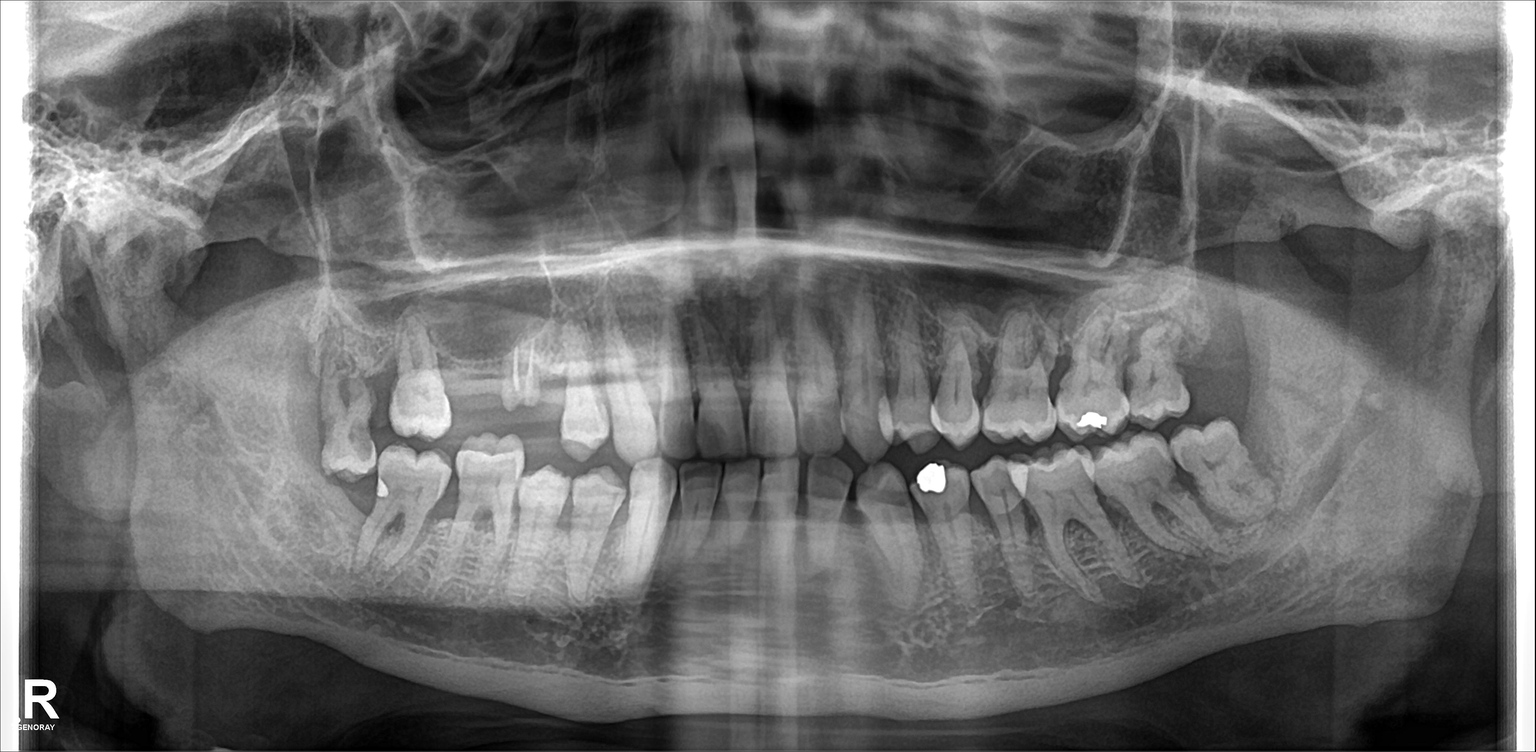Endodontically Treated Tooth: (507, 344, 545, 404)
Impacted Third Molar: (1177, 428, 1280, 523), (313, 356, 384, 471)
Missing Tooth: (1190, 289, 1254, 401), (450, 331, 510, 423)
